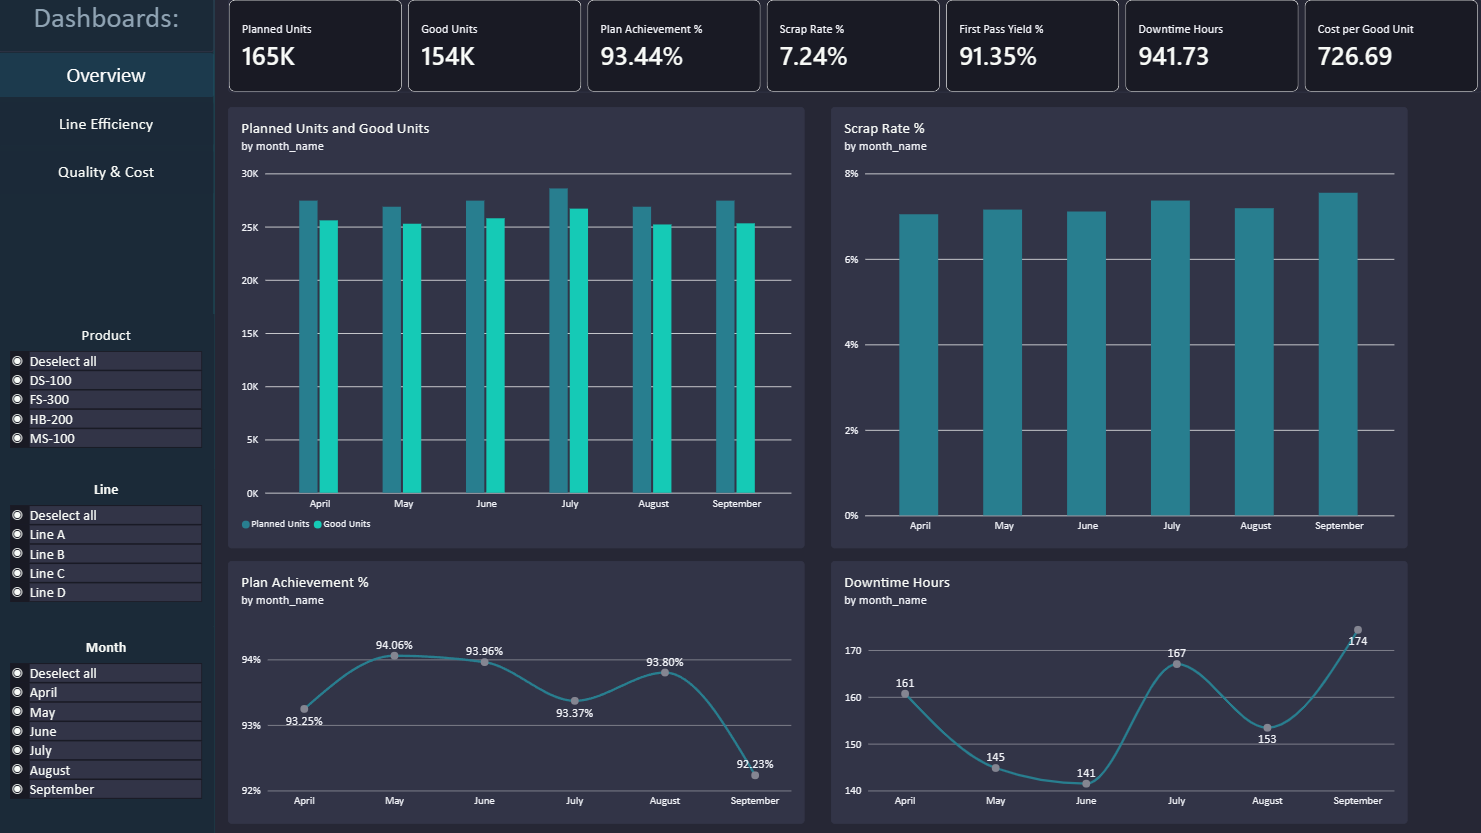

The dashboard page shown, as its layout file describes it:
{"tool":"powerbi","page":{"name":"Overview","canvas":[1920,1080],"ordinal":0},"visuals":[{"type":"textbox","box":[0,-1,280,70],"z":0,"group":"g1"},{"type":"shape","box":[0,0,280,1080],"z":0,"group":"g3"},{"type":"cardVisual","fields":{"Data":["Table.Planned Units","Table.Good Units","Table.Plan Achievement %","Table.Scrap Rate %","Table.First Pass Yield %","Table.Downtime Hours","Table.Cost per Good Unit"]},"box":[297.1,0,1622.9,121.4],"z":0},{"type":"listSlicer","title":"Month","fields":{"Values":["dim_date.month_name"]},"box":[0,813.3,280,266.7],"z":0,"group":"g2"},{"type":"group","id":"g1","title":"Dashboard","box":[0,-1,280,256],"z":1000,"group":"g3"},{"type":"pageNavigator","box":[0,70.4,280,184.6],"z":1000,"group":"g1"},{"type":"clusteredColumnChart","fields":{"Category":["dim_date.month_name"],"Y":["Table.Planned Units","Table.Good Units"]},"box":[297.1,140,745.7,571.4],"z":1000},{"type":"listSlicer","title":"Line","fields":{"Values":["production_lines.line_name"]},"box":[0,608.8,280,204.4],"z":1000,"group":"g2"},{"type":"clusteredColumnChart","fields":{"Category":["dim_date.month_name"],"Y":["Table.Scrap Rate %"]},"box":[1077.1,140,745.7,571.4],"z":2000},{"type":"group","id":"g2","title":"Slicers","box":[0,407.7,280,672.2],"z":2000,"group":"g3"},{"type":"listSlicer","title":"Product","fields":{"Values":["products.product_code"]},"box":[0,407.7,280,201.1],"z":2000,"group":"g2"},{"type":"group","id":"g3","title":"Panel","box":[0,-1,280,1081],"z":3000},{"type":"lineChart","fields":{"Category":["dim_date.month_name"],"Y":["Table.Plan Achievement %"]},"box":[297.1,727.1,745.7,340],"z":4000},{"type":"lineChart","fields":{"Category":["dim_date.month_name"],"Y":["Table.Downtime Hours"]},"box":[1077.1,727.1,745.7,340],"z":5000}]}

Visuals, with their boxes on the page's 1920x1080 design canvas (x1, y1, x2, y2). These are canvas units, not pixel positions in the 1481x833 screenshot, which may show the page scaled, cropped or inside an application window:
textbox: bbox=(0, -1, 280, 69)
shape: bbox=(0, 0, 280, 1080)
cardVisual - Table.Planned Units x Table.Good Units: bbox=(297, 0, 1920, 121)
"Month" listSlicer: bbox=(0, 813, 280, 1080)
"Dashboard" group: bbox=(0, -1, 280, 255)
pageNavigator: bbox=(0, 70, 280, 255)
clusteredColumnChart - dim_date.month_name x Table.Planned Units: bbox=(297, 140, 1043, 711)
"Line" listSlicer: bbox=(0, 609, 280, 813)
clusteredColumnChart - dim_date.month_name x Table.Scrap Rate %: bbox=(1077, 140, 1823, 711)
"Slicers" group: bbox=(0, 408, 280, 1080)
"Product" listSlicer: bbox=(0, 408, 280, 609)
"Panel" group: bbox=(0, -1, 280, 1080)
lineChart - dim_date.month_name x Table.Plan Achievement %: bbox=(297, 727, 1043, 1067)
lineChart - dim_date.month_name x Table.Downtime Hours: bbox=(1077, 727, 1823, 1067)
